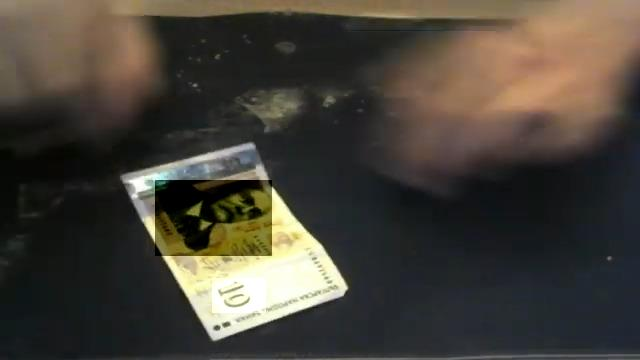10leva: (156, 181, 272, 256), (213, 279, 266, 313)
